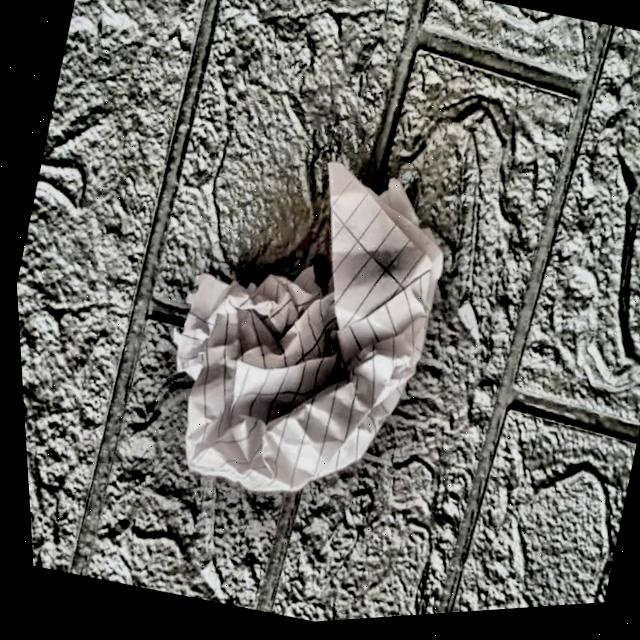paper: (136, 130, 469, 529)
